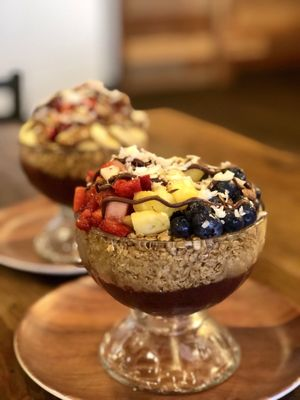pizza: (0, 0, 126, 121)
